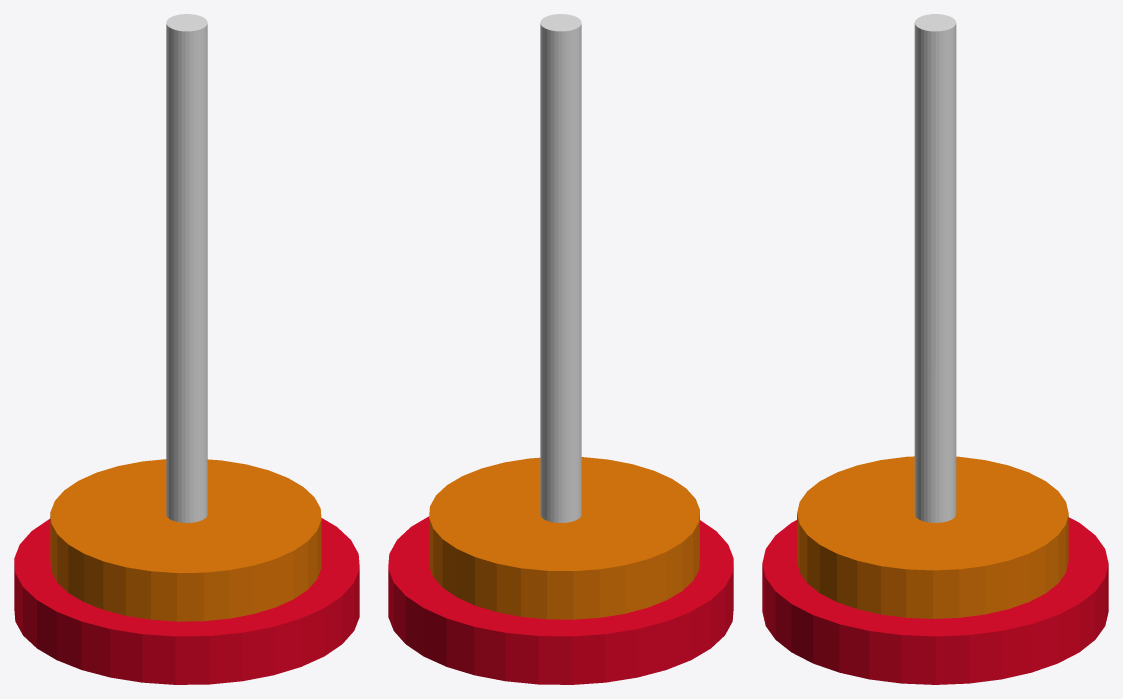
The model's file is Towers of Hanoi 2 Ring.fbx.
3 renders of one model, left to right at view 1: azimuth 30°, elevation 25°; view 2: azimuth 150°, elevation 25°; view 3: azimuth 270°, elevation 25°, orthographic.
Visible parts, largest first — view 1: Cylinder.002, Cylinder.001, Cylinder; view 2: Cylinder.002, Cylinder.001, Cylinder; view 3: Cylinder.002, Cylinder.001, Cylinder.
Part boxes in pixels (<box>): Cylinder.002: <box>50,459,321,621</box>; Cylinder.001: <box>14,518,359,684</box>; Cylinder: <box>166,14,207,522</box>; Cylinder.002: <box>429,457,699,619</box>; Cylinder.001: <box>388,516,733,684</box>; Cylinder: <box>540,14,581,522</box>; Cylinder.002: <box>797,456,1068,618</box>; Cylinder.001: <box>762,517,1108,684</box>; Cylinder: <box>914,14,956,522</box>.
Size of the model in its own units: 270 by 506 by 270.
